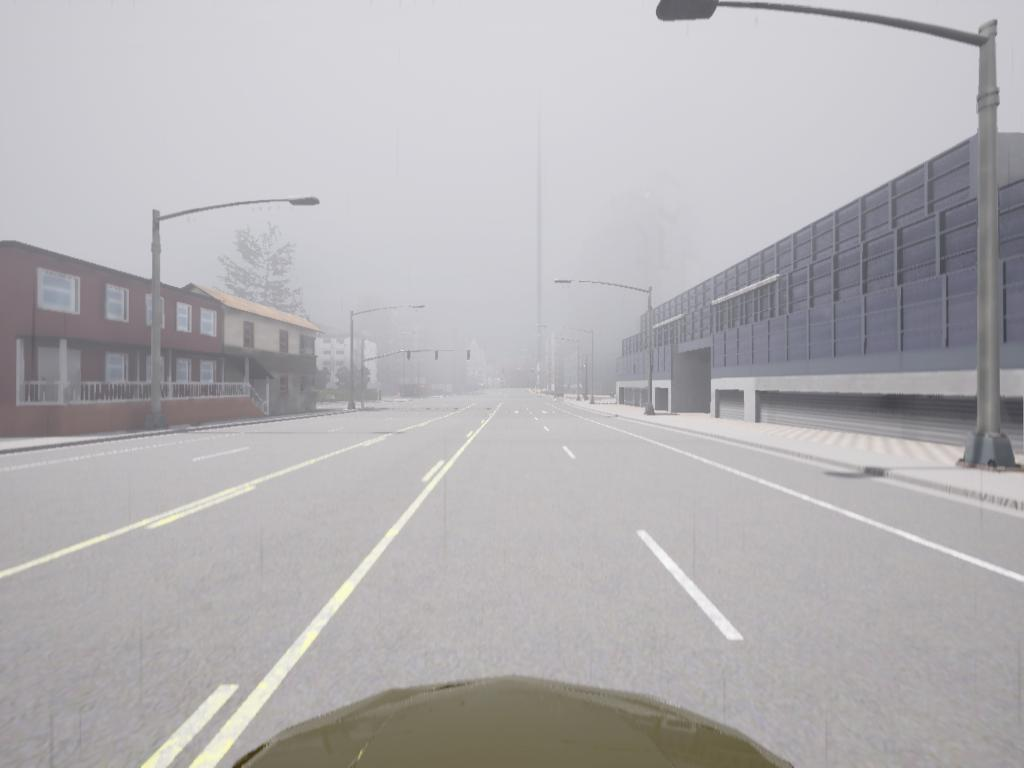traffic_light: (407, 351, 412, 361), (435, 352, 440, 361), (467, 351, 471, 362), (518, 370, 521, 375), (533, 370, 535, 377), (503, 369, 505, 375)
